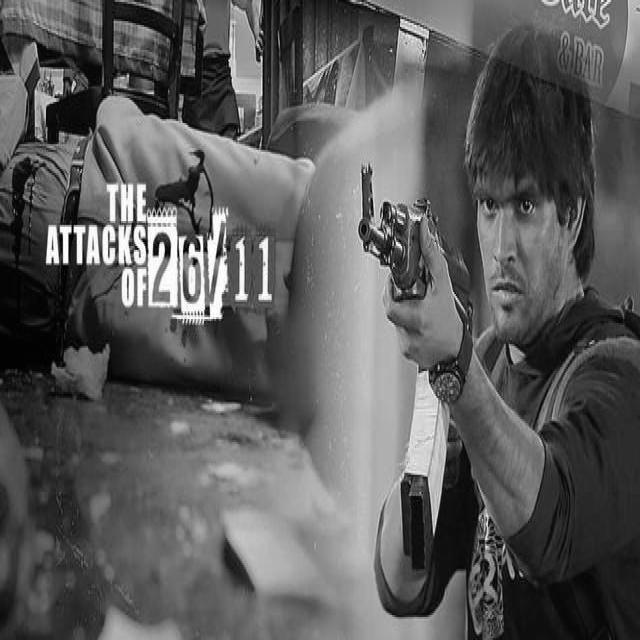gun: (356, 158, 474, 571)
